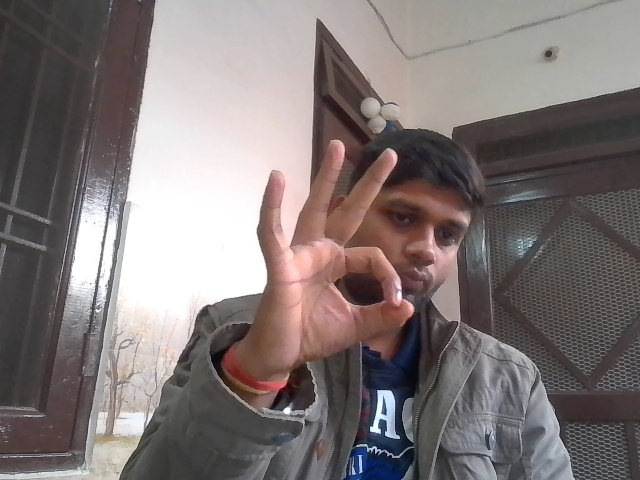Good: (244, 139, 421, 371)
